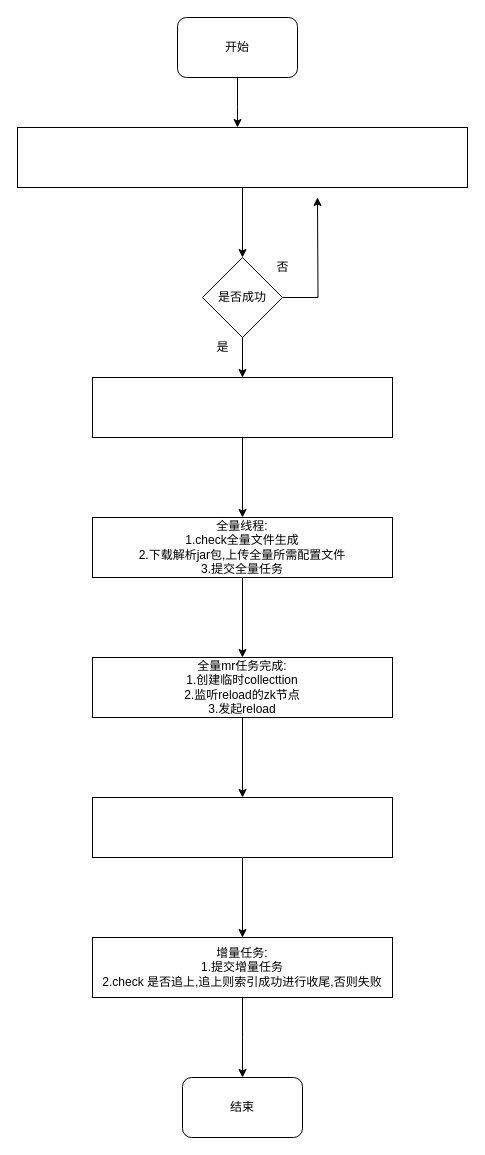
Image size: 485x1155. Some labels were removed from this diagram. The shapes that lost their labels are listed below. From the top down, each one's centre as x and y in pixels, then its label:
At pixel 242 157: "1.生成schema文件 2.上传配置文件到solr并创建collection".
At pixel 242 407: "1.清理遗留节点信息 2.备份offset 3.备份indexversion 4.起全量线程".
At pixel 242 827: "节点监听reload是否完成: 1.reload完成则创建collecttion 2.(全量校验) 3.若有增量则提交增量,否则进行全量收尾工作".
